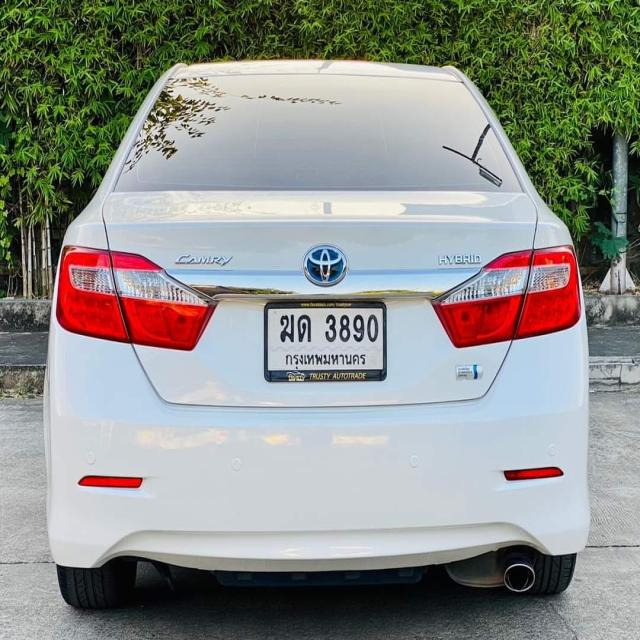license_plate: (265, 294, 386, 382)
